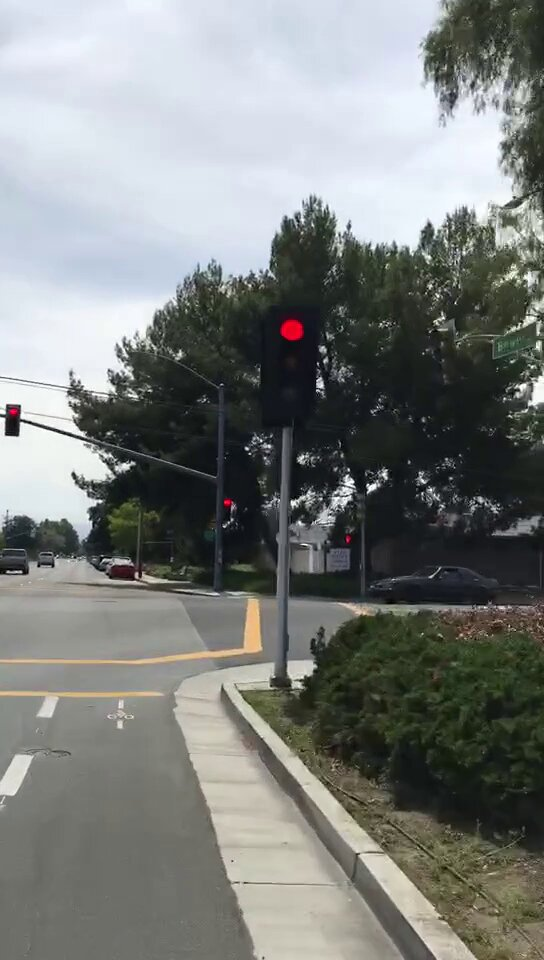red_light: (269, 309, 315, 419), (219, 494, 232, 523), (6, 405, 19, 432)
